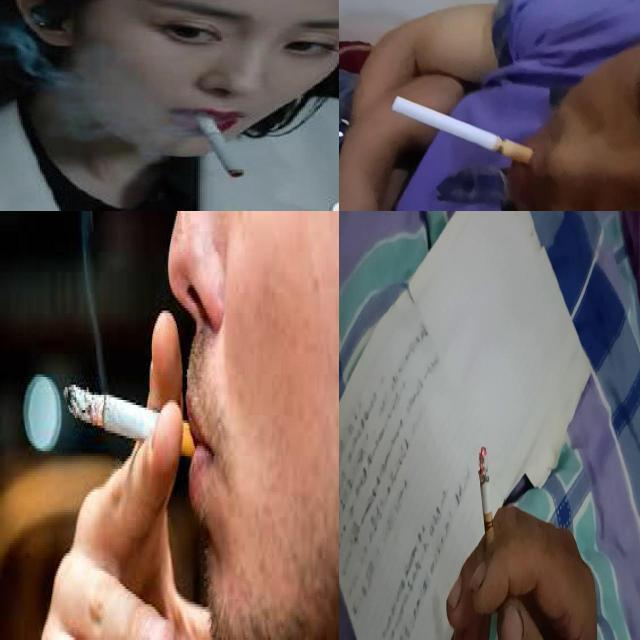cigarette: (62, 382, 210, 472), (392, 94, 536, 166), (191, 106, 245, 178), (478, 446, 496, 564)
